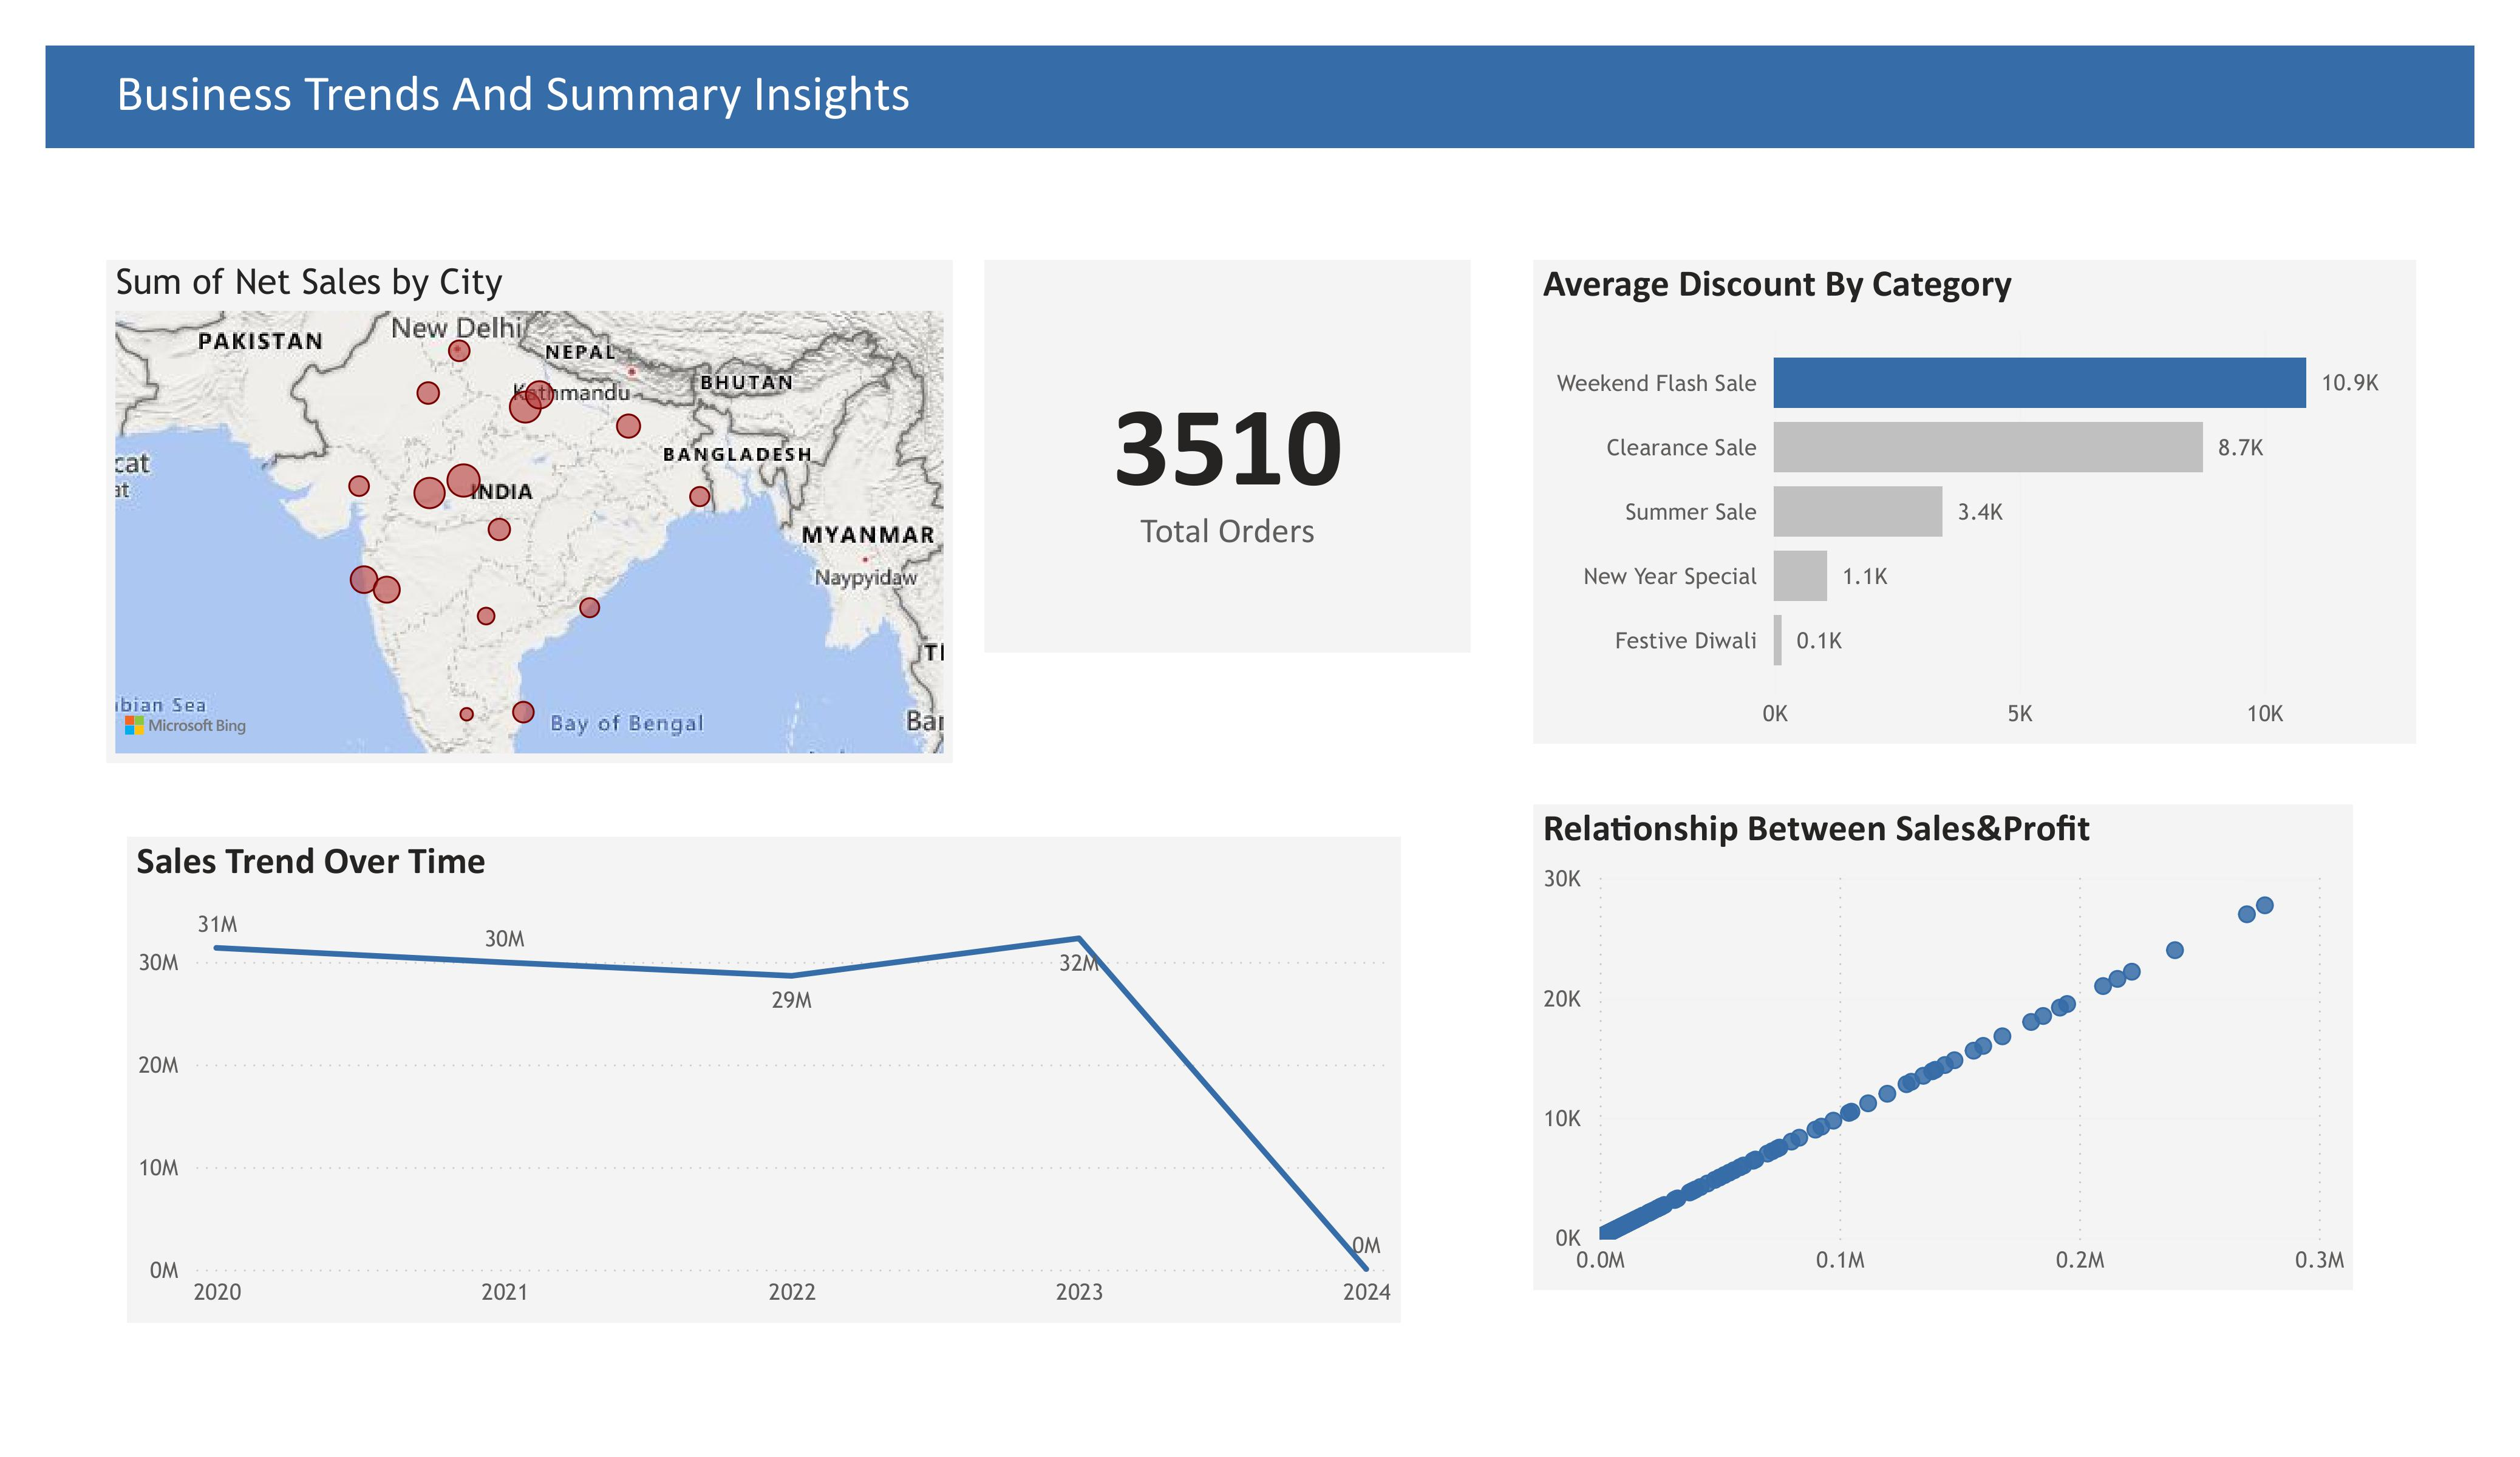

The page's visual inventory and layout, read from the dashboard file:
{"tool":"powerbi","page":{"name":"Business Treds and summary Insights","canvas":[1280,720],"ordinal":1},"visuals":[{"type":"shape","box":[0,0,1280.3,53.8],"z":0},{"type":"shape","box":[31.8,74.6,1231.4,75.8],"z":1000},{"type":"textbox","box":[31.8,0,463.5,53.8],"z":2000},{"type":"lineChart","title":"Sales Trend Over Time","fields":{"Y":["Sum(Sale Details.Net Sales)"],"Category":["CalendarTable.Date.Variation.Date Hierarchy.Year","CalendarTable.Date.Variation.Date Hierarchy.Quarter","CalendarTable.Date.Variation.Date Hierarchy.Month","CalendarTable.Date.Variation.Date Hierarchy.Day"]},"box":[42.8,417,671.3,255.6],"z":3000},{"type":"barChart","title":"Average Discount By Category","fields":{"Category":["Dim Promotion.Promotion Name"],"Y":["Avg(Sale Details.Discount Value)"]},"box":[783.8,112.5,464.7,255.6],"z":4000},{"type":"card","title":"Total Orders","fields":{"Values":["CountNonNull(Sale Details.index)"]},"box":[495.2,112.5,255.6,207.9],"z":5000},{"type":"scatterChart","title":"Relationship Between Sales&Profit","fields":{"X":["Sale Details.Net Sales"],"Y":["Sale Details.Profit"]},"box":[784,400,432,256],"z":6000},{"type":"map","fields":{"Category":["Dim Customers.City"],"Size":["Sum(Sale Details.Net Sales)"]},"box":[31.8,112.5,446.3,265.4],"z":7000}]}

Visuals, with their boxes on the page's 1280x720 design canvas (x1, y1, x2, y2). These are canvas units, not pixel positions in the 2520x1457 screenshot, which may show the page scaled, cropped or inside an application window:
shape: (0, 0, 1280, 54)
shape: (32, 75, 1263, 150)
textbox: (32, 0, 495, 54)
"Sales Trend Over Time" lineChart: (43, 417, 714, 673)
"Average Discount By Category" barChart: (784, 112, 1248, 368)
"Total Orders" card: (495, 112, 751, 320)
"Relationship Between Sales&Profit" scatterChart: (784, 400, 1216, 656)
map - Dim Customers.City x Sum(Sale Details.Net Sales): (32, 112, 478, 378)
